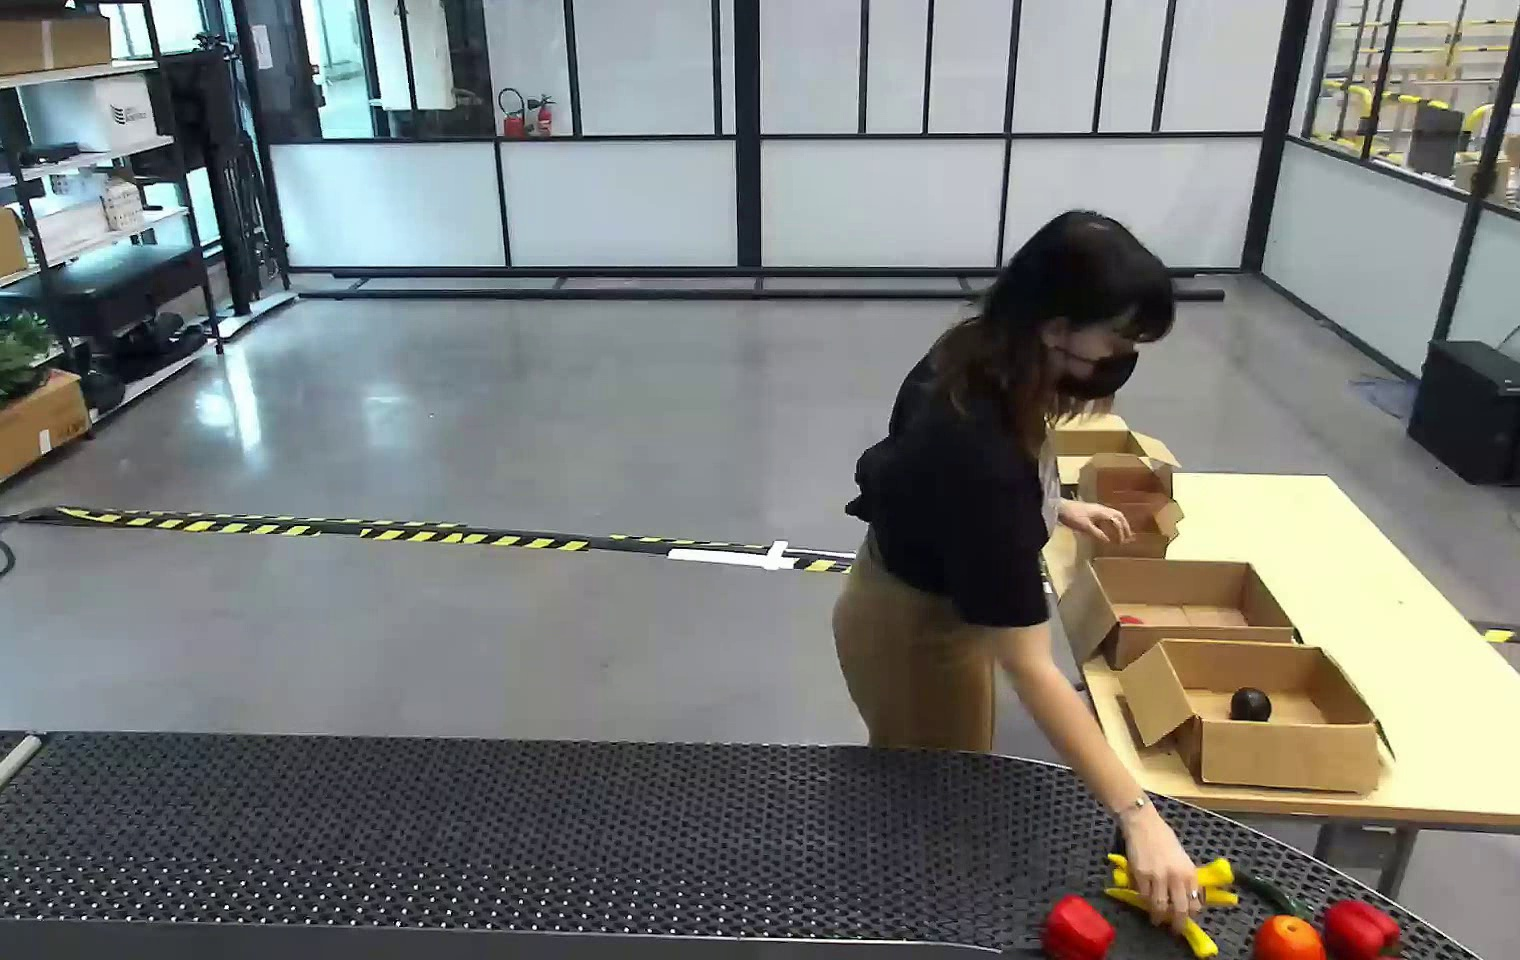Main droite: (1117, 814, 1203, 926)
